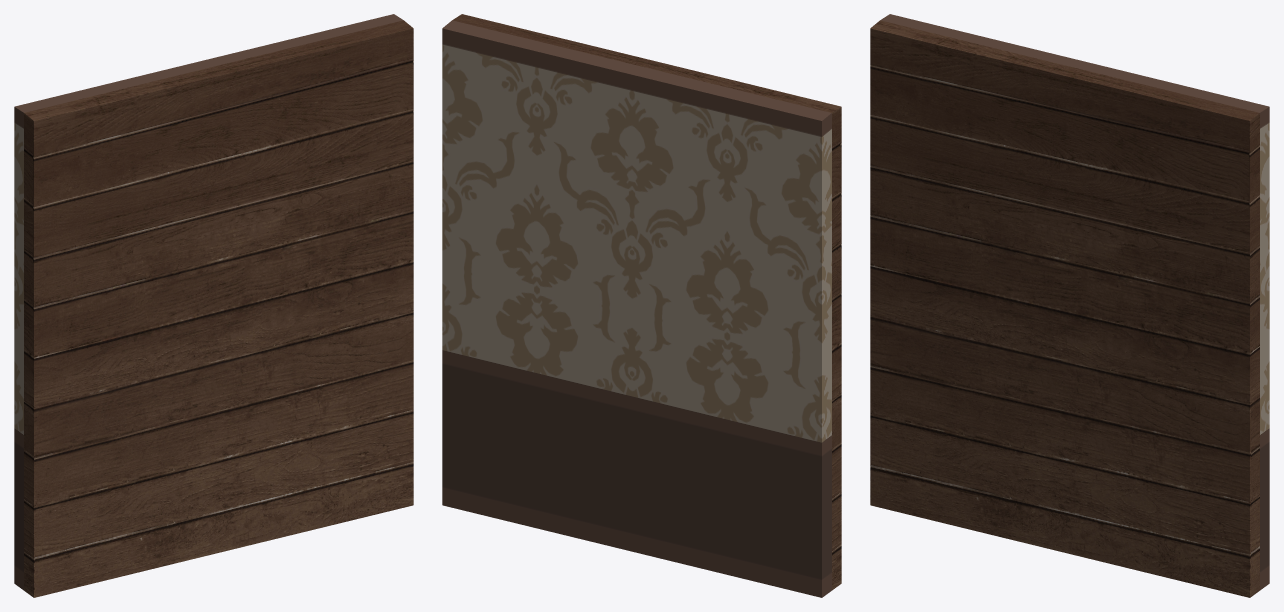
File: WALL01.fbx
3 views of the same model, side by side, from view 1: azimuth 30°, elevation 25°; view 2: azimuth 150°, elevation 25°; view 3: azimuth 330°, elevation 25° (orthographic).
Parts seen in each view (by area): view 1: Wall01; view 2: Wall01; view 3: Wall01.
Boxes of the visible parts, box(x1,y1,x2,y2) form: Wall01: box(14, 14, 413, 597); Wall01: box(442, 14, 841, 597); Wall01: box(870, 14, 1269, 597).
Size of the model in its own units: 250 by 301 by 22.5.
